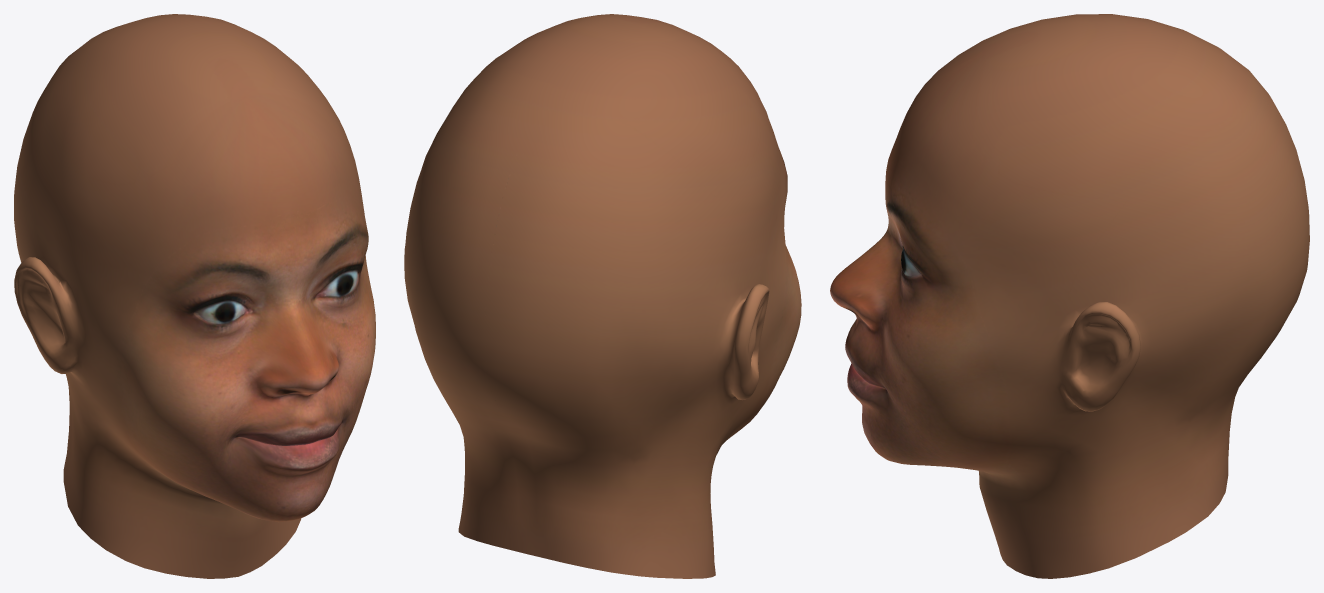
Rendered from v332_obj_ModifierSmirkRight.obj.
The picture shows the model from 3 angles, left to right: view 1: azimuth 30°, elevation 25°; view 2: azimuth 150°, elevation 25°; view 3: azimuth 270°, elevation 25°; orthographic projection. The views are drawn at different scales.
Parts seen in each view (by area): view 1: HeadHires; view 2: HeadHires; view 3: HeadHires.
Part boxes in pixels (x1,y1,x2,y2): HeadHires: (14, 14, 375, 578); HeadHires: (404, 14, 801, 578); HeadHires: (830, 14, 1309, 578).
Bounding box in the file's own units: 187 × 282 × 233.
